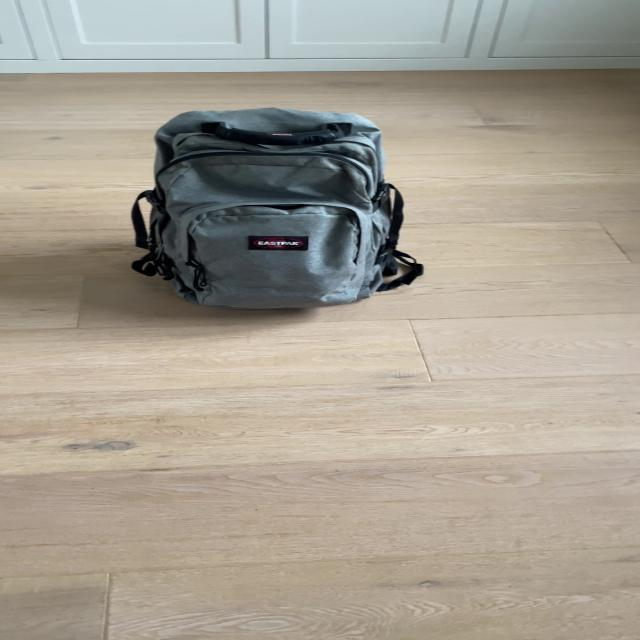backpack: (120, 97, 423, 317)
